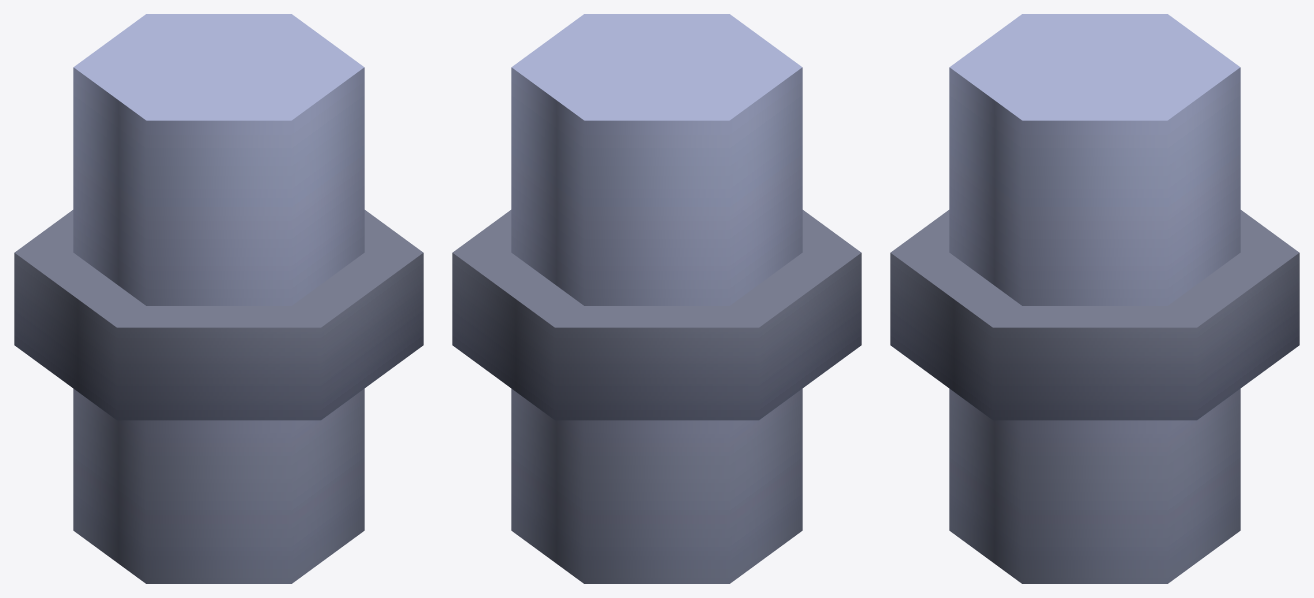
The model's file is kenney-space-station-pipe-ring.glb.
The picture shows the model from 3 angles, left to right: view 1: azimuth 30°, elevation 25°; view 2: azimuth 150°, elevation 25°; view 3: azimuth 270°, elevation 25°; orthographic projection.
Parts seen in each view (by area): view 1: pipe-ring; view 2: pipe-ring; view 3: pipe-ring.
Part boxes in pixels (x1,y1,x2,y2): pipe-ring: (14, 14, 423, 583); pipe-ring: (452, 14, 861, 583); pipe-ring: (890, 14, 1299, 583).
Size of the model in its own units: 0.3464 by 0.5 by 0.4.
Materials: 1 (1 with a texture image).
